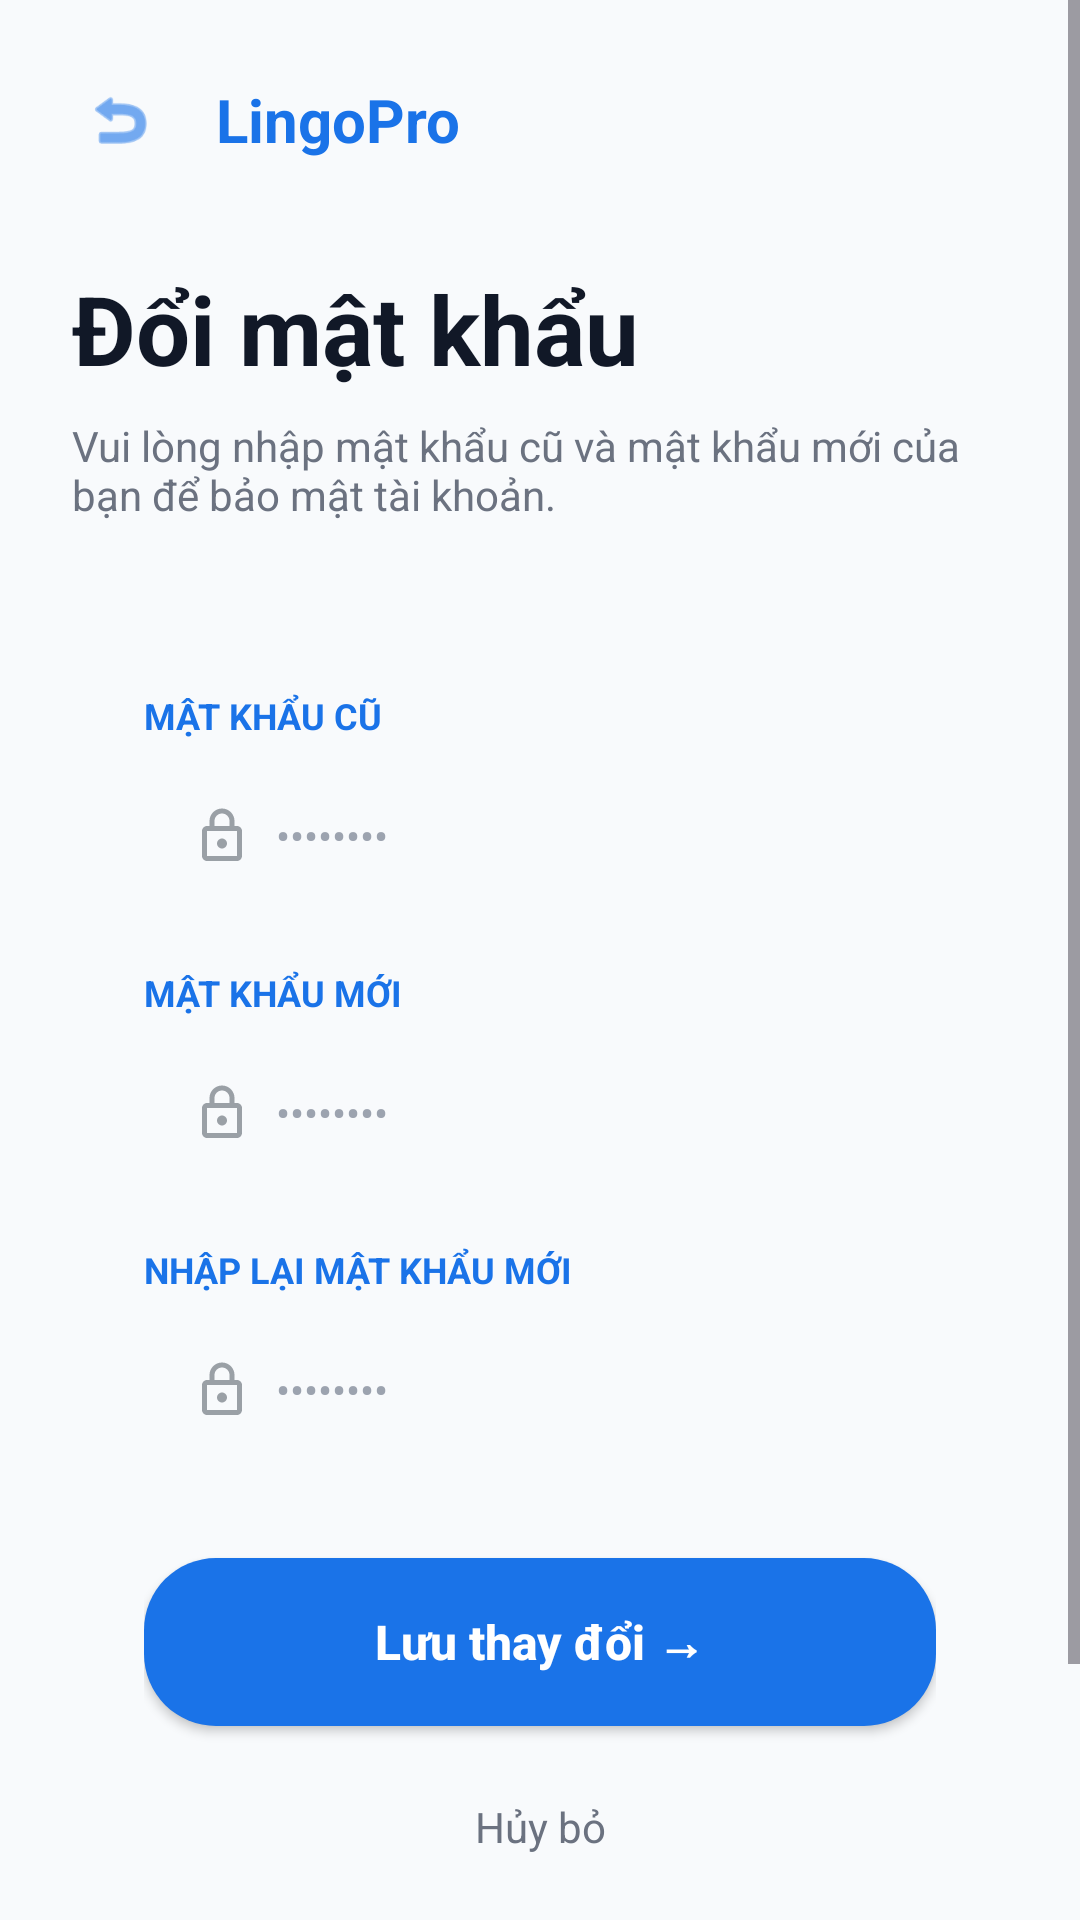

Icon click points for this 1080px×1920px phone screenshot, format (x=x, y=y):
bieu tuong khoa: (x=222, y=834), (x=222, y=1111), (x=222, y=1388)
revert: (x=121, y=120)
